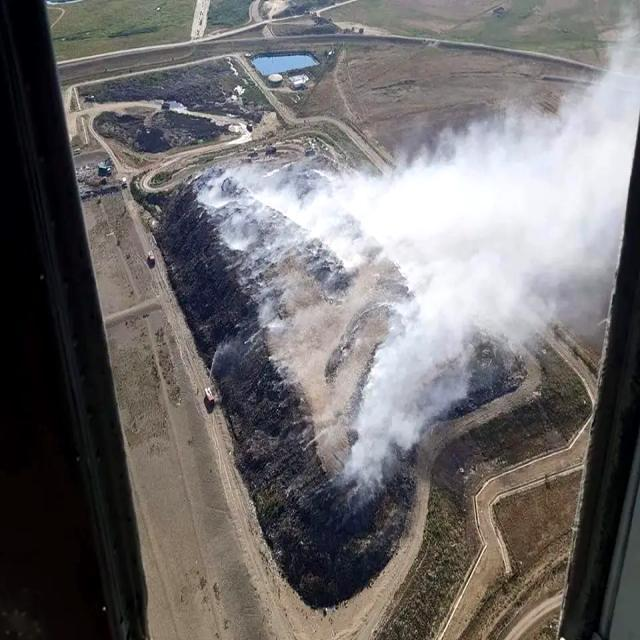Smoke: (226, 61, 640, 423)
